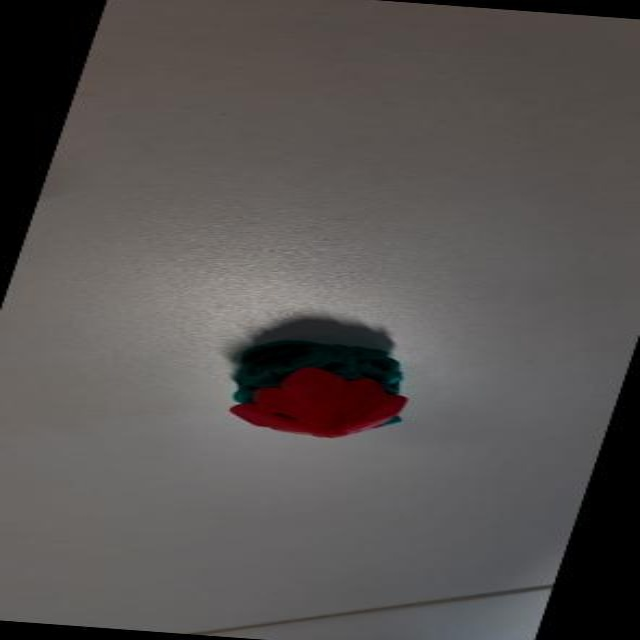House: (191, 329, 430, 449)
